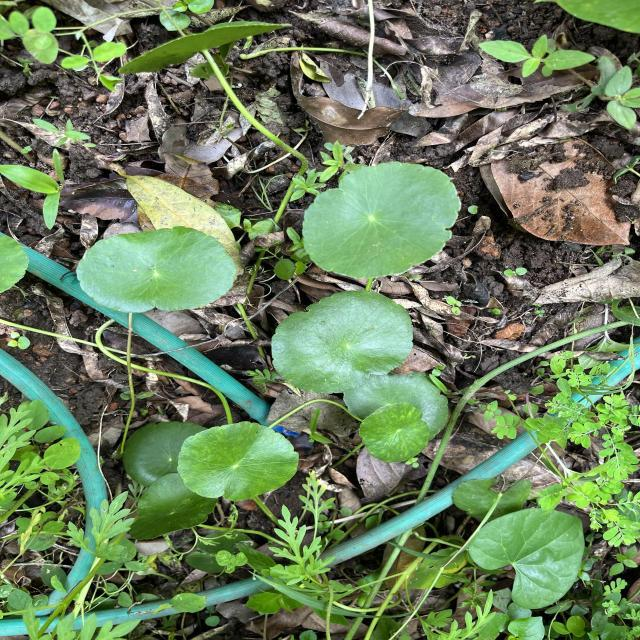Bacopa monnieri: (300, 159, 463, 281), (269, 289, 416, 396), (74, 224, 238, 316), (176, 419, 300, 504), (356, 400, 432, 464)
